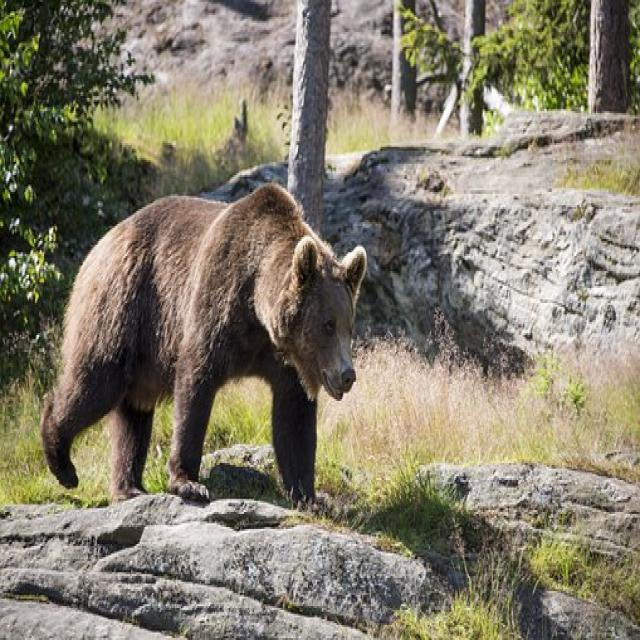Bear: (39, 184, 368, 510)
